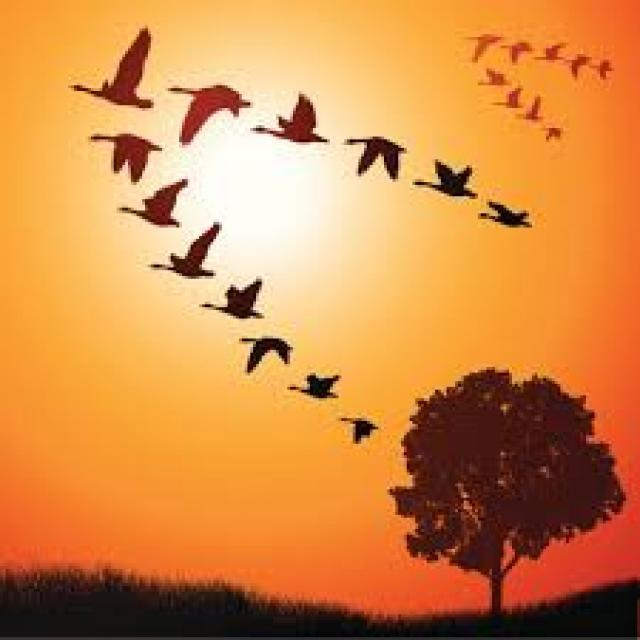bird: (57, 4, 162, 124), (240, 84, 337, 178), (95, 176, 226, 242), (162, 51, 248, 142), (81, 120, 178, 197), (192, 272, 292, 338), (146, 228, 238, 298), (286, 356, 366, 432), (226, 330, 317, 392), (333, 128, 407, 202), (417, 153, 482, 222), (484, 199, 544, 250), (586, 50, 629, 104), (351, 410, 397, 460), (448, 28, 502, 68), (502, 36, 542, 72), (514, 90, 548, 132), (537, 115, 569, 155), (564, 48, 584, 106), (542, 32, 562, 82), (478, 64, 515, 90), (492, 92, 524, 116)
